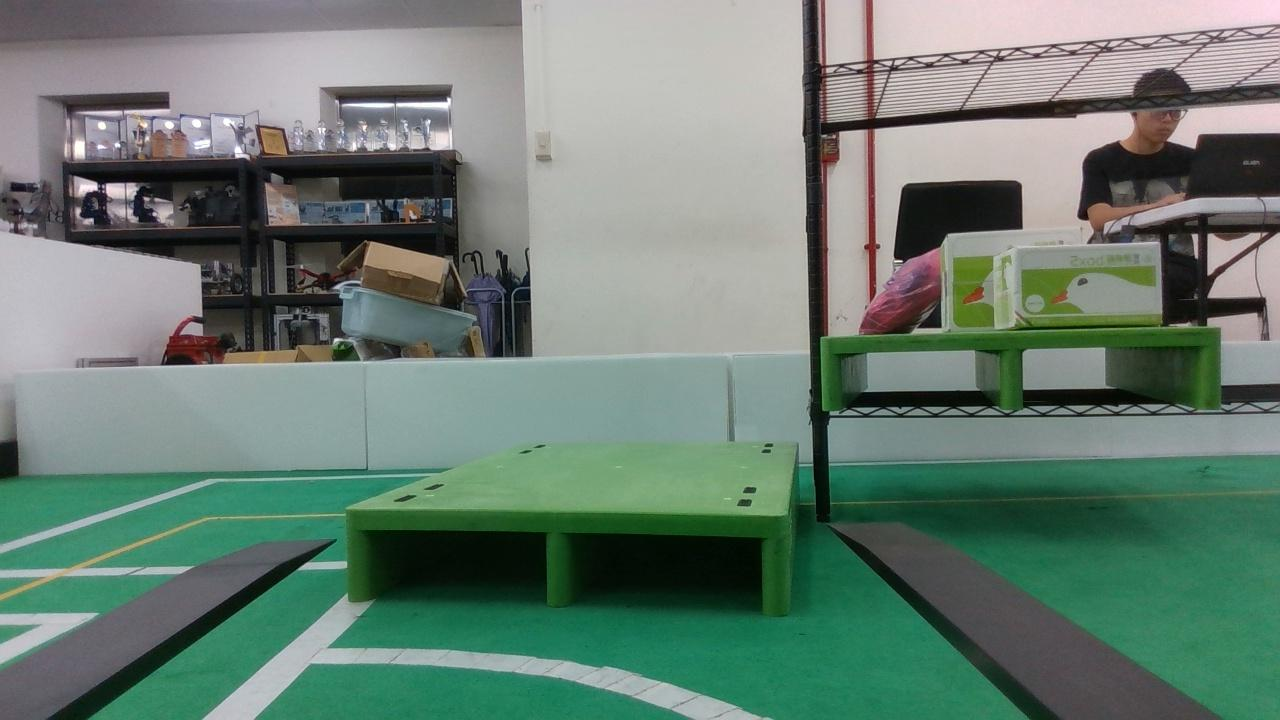Pallet: (346, 508, 792, 617), (820, 325, 1220, 413)
